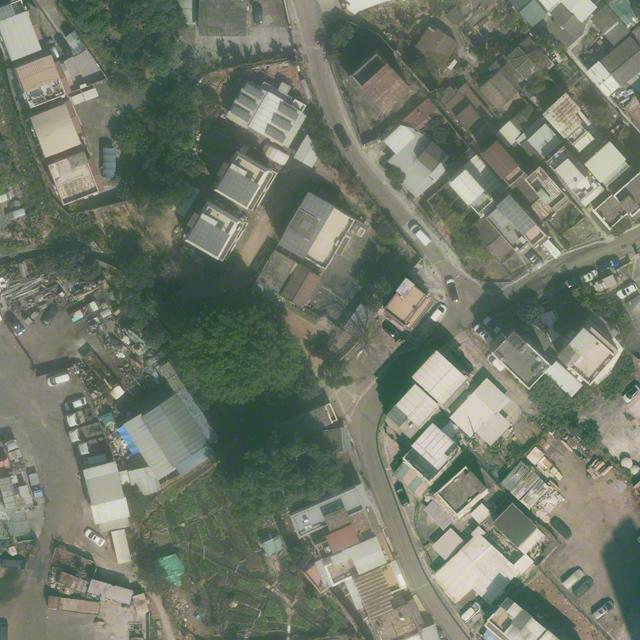panel: (216, 168, 260, 207), (187, 218, 230, 257), (496, 194, 535, 236), (278, 229, 313, 260), (299, 192, 335, 222), (308, 219, 326, 244), (271, 114, 294, 133), (230, 105, 253, 123), (243, 83, 265, 101), (278, 104, 301, 121), (266, 125, 287, 143), (237, 94, 259, 110)
